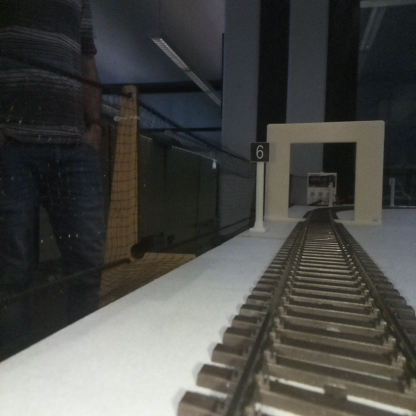black-info-6: (250, 142, 269, 231)
